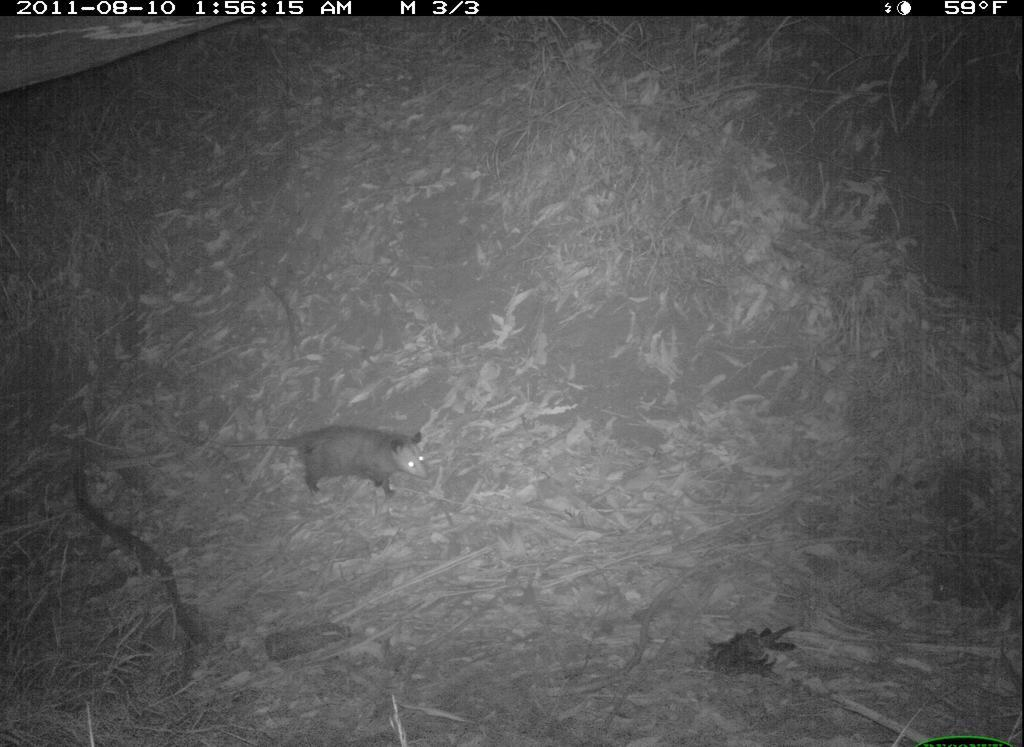opossum: (194, 415, 441, 516)
